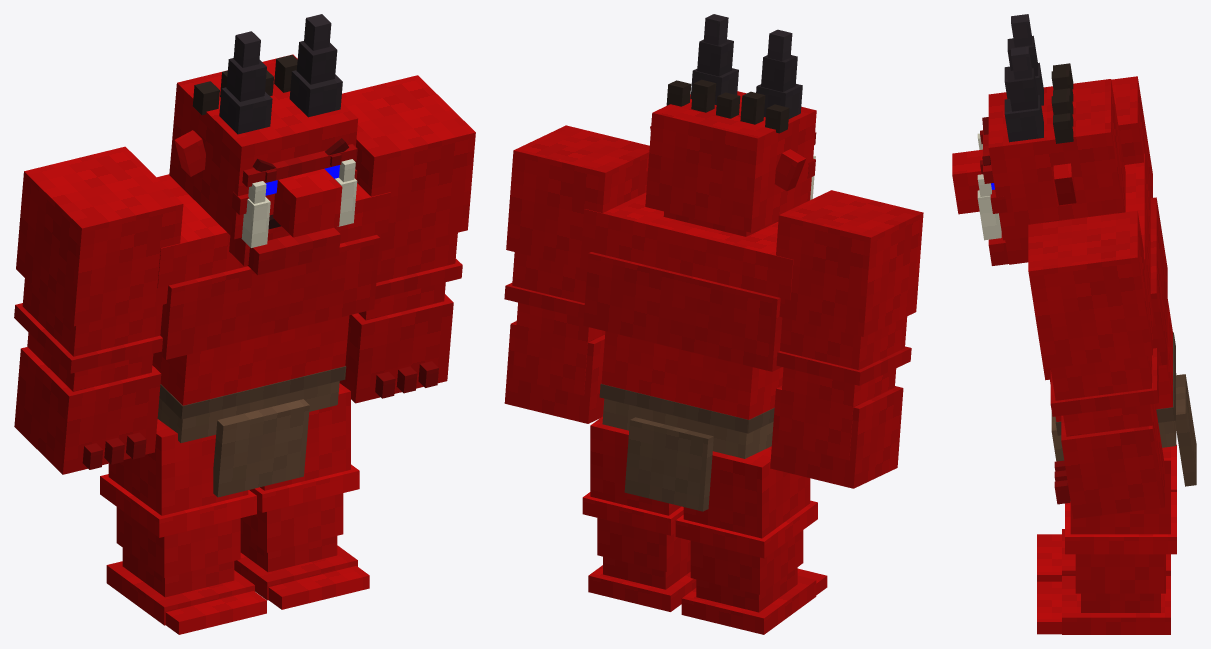
The model's file is ogre_s1.glb.
3 views of the same model, side by side, from view 1: azimuth 30°, elevation 25°; view 2: azimuth 150°, elevation 25°; view 3: azimuth 270°, elevation 25° (orthographic). The views are drawn at different scales.
Visible parts, largest first — view 1: ArmR, Torso, Head, ArmL, LegR, LegL; view 2: Torso, ArmR, ArmL, Head, LegR, LegL; view 3: ArmL, Head, LegL, Torso, ArmR, LegR.
Part boxes in pixels (<box>): ArmR: <box>14,146,183,474</box>; Torso: <box>152,174,390,497</box>; Head: <box>169,14,358,275</box>; ArmL: <box>339,75,475,403</box>; LegR: <box>100,419,266,634</box>; LegL: <box>234,383,369,609</box>; Torso: <box>581,192,793,511</box>; ArmR: <box>770,190,923,488</box>; ArmL: <box>504,125,649,423</box>; Head: <box>645,14,816,236</box>; LegR: <box>675,446,827,634</box>; LegL: <box>582,416,696,611</box>; ArmL: <box>1028,211,1164,518</box>; Head: <box>952,14,1125,265</box>; LegL: <box>1037,446,1176,634</box>; Torso: <box>1043,153,1196,500</box>; ArmR: <box>1111,76,1152,197</box>; LegR: <box>1037,444,1176,581</box>.
Bounding box in the file's own units: 1.46 × 2.09 × 0.8306.
25 materials, 25 textured.
